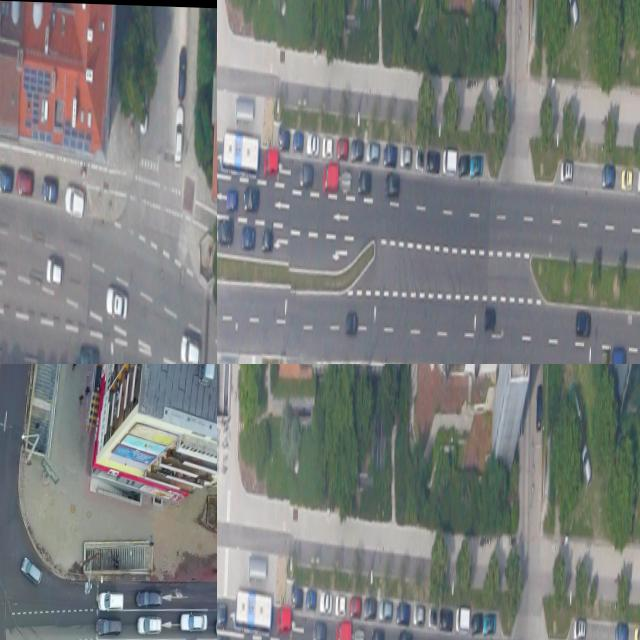UAI: (104, 284, 128, 322), (19, 556, 44, 588), (579, 440, 593, 491), (179, 332, 201, 364), (97, 589, 124, 614), (179, 610, 208, 633), (64, 186, 85, 217), (95, 614, 122, 637), (173, 105, 183, 163), (136, 615, 163, 636), (40, 173, 58, 204), (16, 166, 34, 196), (136, 588, 163, 608), (177, 47, 187, 98), (45, 259, 63, 287), (322, 163, 338, 193), (243, 186, 259, 214), (566, 0, 580, 32), (78, 343, 99, 364), (218, 218, 233, 247), (575, 310, 591, 336), (384, 171, 399, 197), (264, 148, 278, 175), (443, 148, 457, 175), (277, 606, 291, 633), (456, 606, 470, 633), (535, 384, 543, 430), (0, 163, 13, 191), (358, 169, 371, 195), (241, 226, 255, 250), (299, 163, 313, 187), (601, 164, 615, 188), (334, 620, 350, 640), (426, 149, 439, 172), (383, 143, 396, 166), (365, 141, 378, 164), (350, 138, 363, 161), (439, 607, 452, 630), (396, 601, 409, 624), (378, 599, 391, 622), (363, 596, 376, 619), (345, 312, 357, 336), (307, 132, 319, 156), (484, 307, 496, 331), (320, 590, 332, 614), (312, 620, 326, 640), (226, 188, 238, 211), (261, 229, 273, 252), (560, 160, 572, 183), (458, 154, 470, 177), (336, 137, 348, 160), (278, 127, 290, 150), (572, 617, 584, 640), (471, 612, 483, 635), (349, 595, 361, 618), (291, 585, 303, 608), (469, 155, 482, 176), (482, 613, 495, 634), (610, 346, 625, 364), (614, 621, 628, 640), (322, 134, 333, 158), (335, 592, 346, 616), (340, 168, 350, 194), (621, 167, 632, 190), (217, 599, 225, 629), (400, 145, 411, 166), (413, 603, 424, 624), (293, 129, 303, 152), (306, 587, 316, 610), (415, 146, 424, 169), (428, 604, 437, 627), (370, 626, 383, 640), (397, 628, 412, 640), (353, 625, 363, 640), (601, 348, 609, 364), (633, 624, 640, 640), (637, 165, 640, 191)
car: (221, 129, 259, 176), (234, 587, 272, 634)
